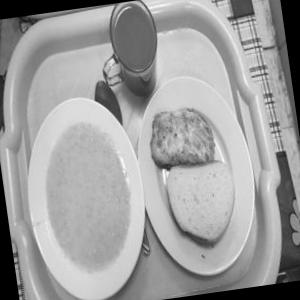bread: (154, 151, 255, 249)
cheese_sandwich: (136, 95, 230, 182)
coffee: (99, 0, 169, 99)
porridge: (14, 96, 144, 300)
